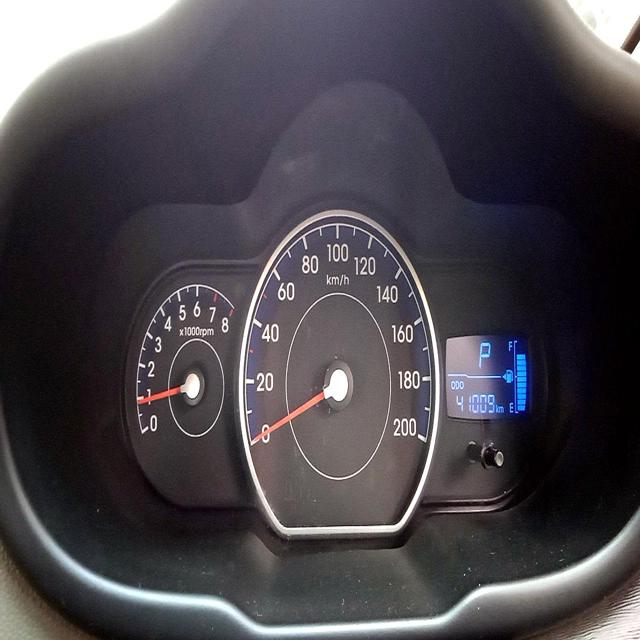odometer: (456, 392, 495, 416)
